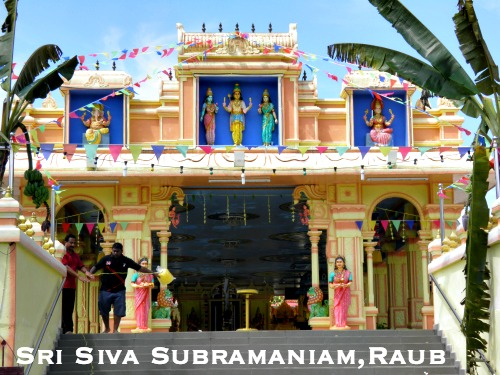Hindu Temple: (18, 20, 445, 334)
